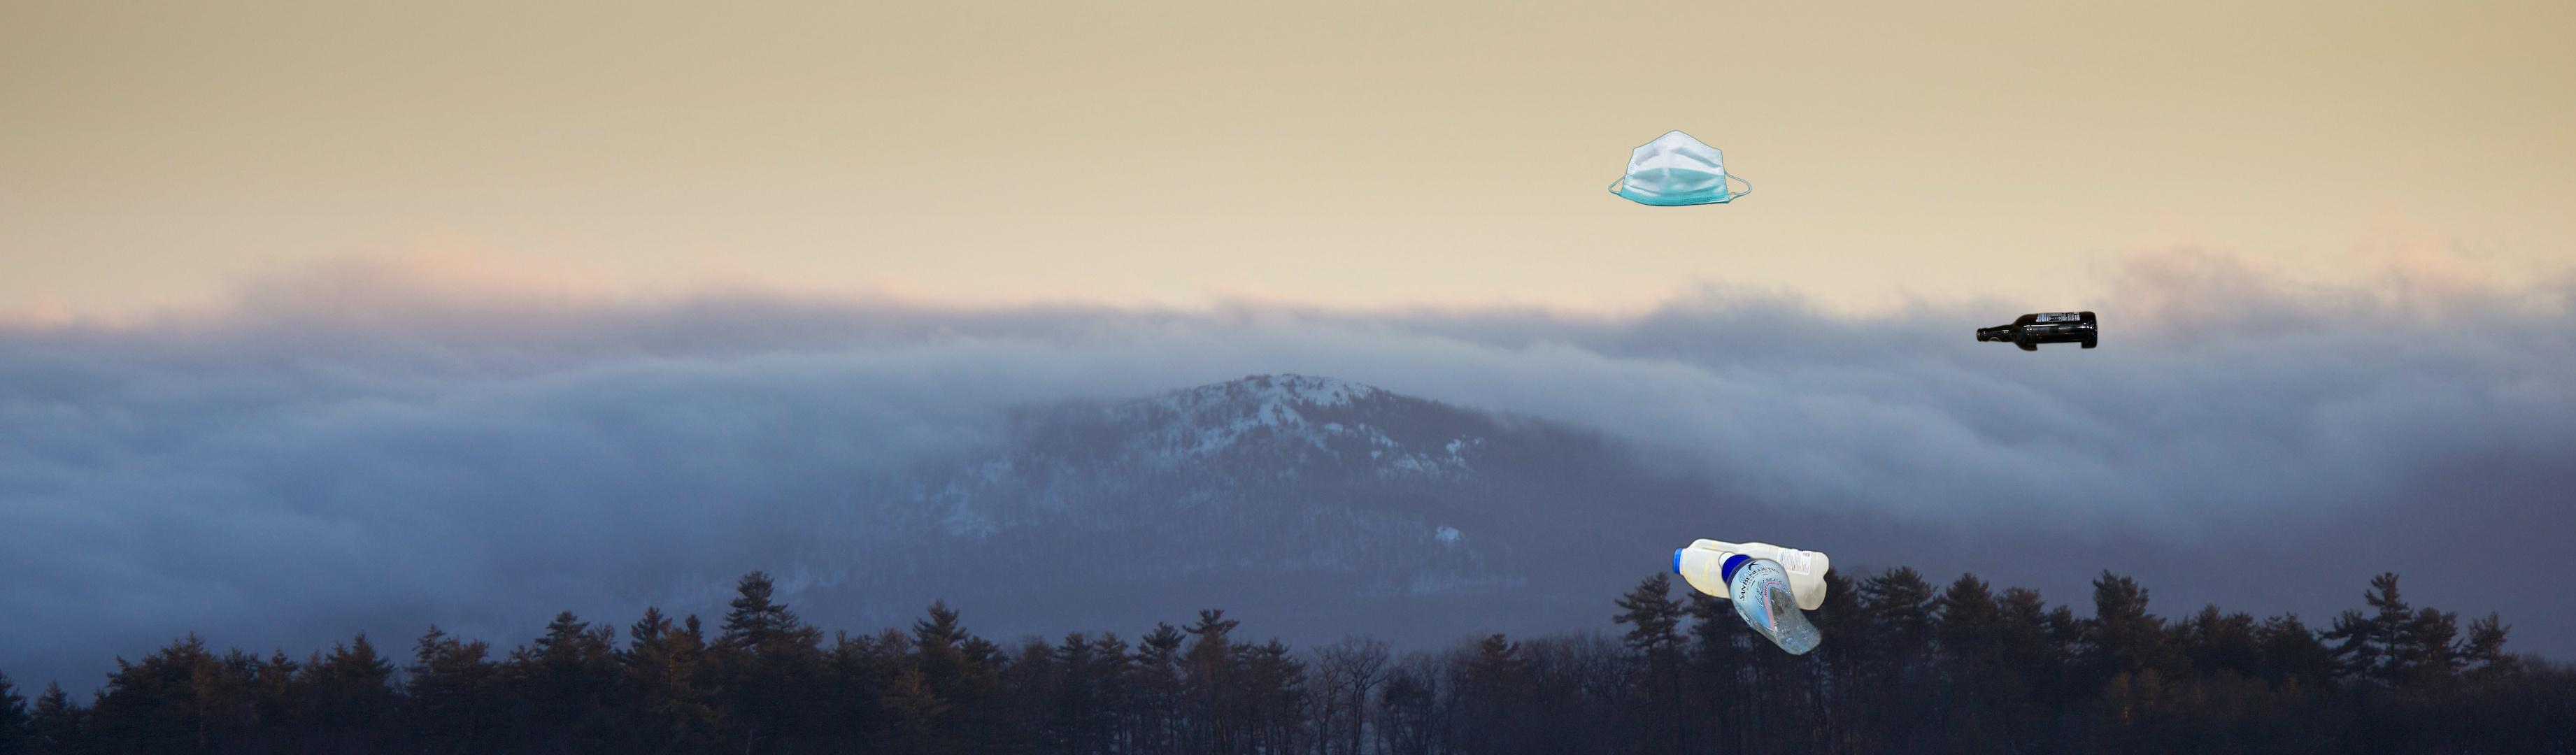glass: (1973, 309, 2100, 355)
penholder: (2466, 739, 2576, 755)
plastic-bottles: (1717, 548, 1957, 755), (1669, 533, 1832, 615)
trash: (1608, 128, 1753, 208)
